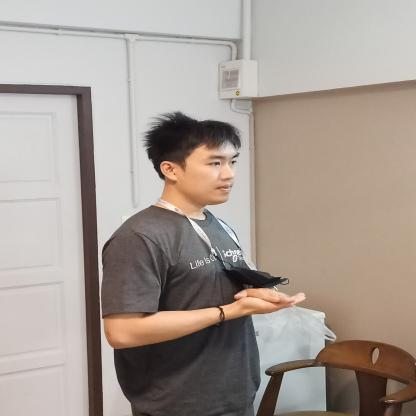Love: (206, 274, 325, 333)
